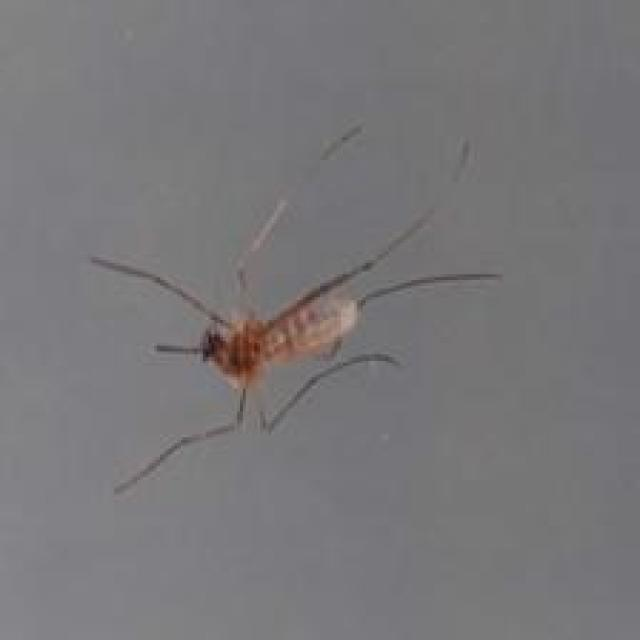Culex: (88, 124, 503, 496)
